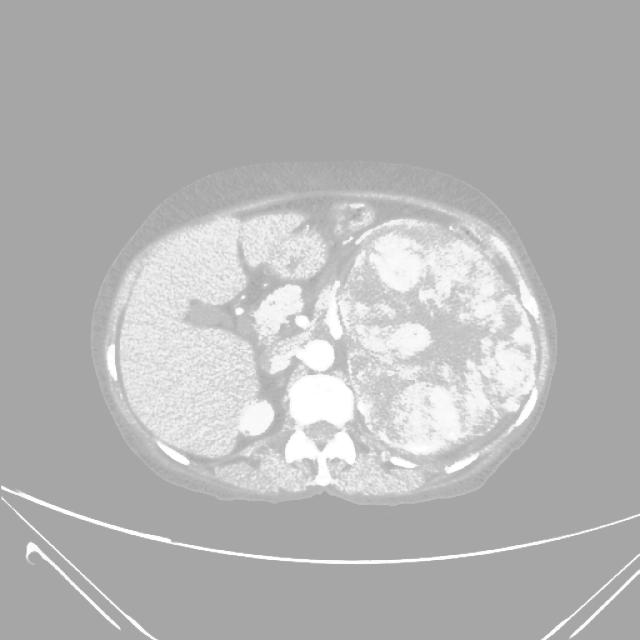TUMOR: (307, 209, 527, 466)
